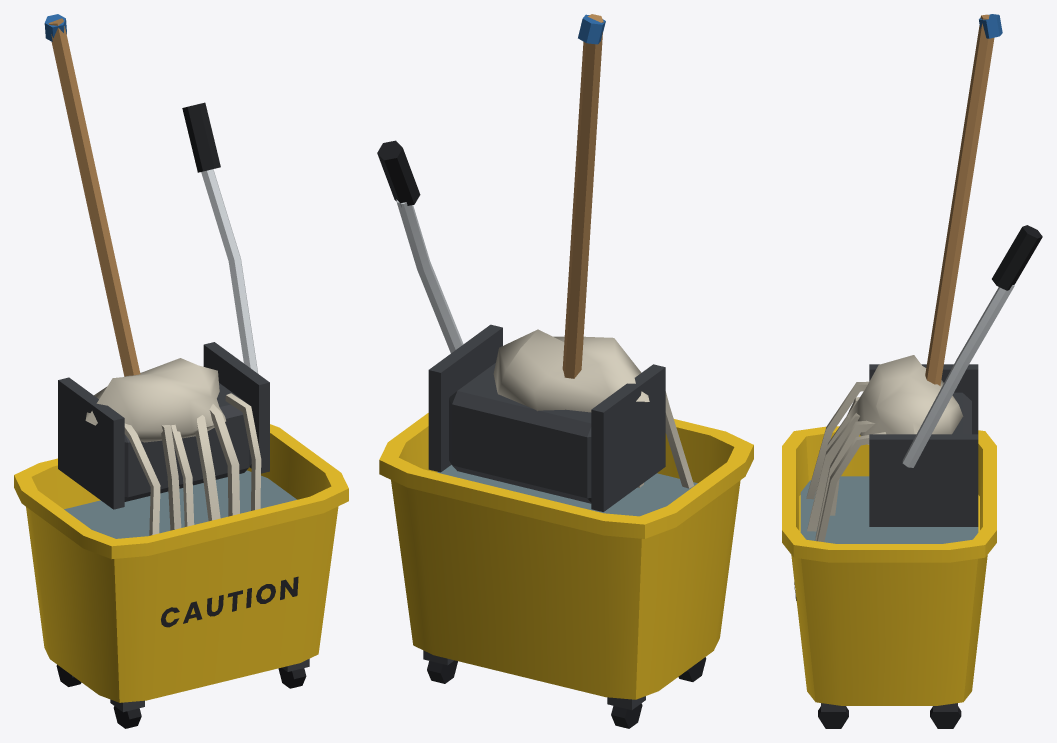
The model's file is Shop_MopBucket.fbx.
3 views of the same model, side by side, from view 1: azimuth 30°, elevation 25°; view 2: azimuth 150°, elevation 25°; view 3: azimuth 270°, elevation 25° (orthographic). The views are drawn at different scales.
Visible parts, largest first — view 1: Bucket, MopHead, Wringer, MopHandle, Water, Lever, Grip, Caution, Wheels; view 2: Bucket, Wringer, MopHead, MopHandle, Water, Lever, Grip, Wheels; view 3: Bucket, Wringer, MopHead, MopHandle, Water, Lever, Grip, Wheels, MopCap.
Part boxes in pixels (x1,y1,x2,y2): Bucket: (14, 424, 348, 702); MopHead: (85, 358, 261, 535); Wringer: (58, 342, 269, 509); MopHandle: (48, 18, 140, 376); Water: (64, 470, 296, 538); Lever: (201, 169, 258, 373); Grip: (182, 102, 220, 172); Caution: (161, 576, 298, 627); Wheels: (56, 664, 306, 728); Bucket: (379, 413, 753, 699); Wringer: (428, 324, 665, 511); MopHead: (493, 329, 693, 488); MopHandle: (562, 14, 603, 378); Water: (437, 465, 697, 516); Lever: (396, 199, 463, 353); Grip: (377, 140, 420, 206); Wheels: (427, 657, 706, 728); Bucket: (782, 426, 996, 705); Wringer: (869, 364, 978, 526); MopHead: (806, 355, 963, 541); MopHandle: (925, 14, 994, 385); Water: (800, 476, 978, 543); Lever: (902, 284, 1014, 467); Grip: (992, 225, 1042, 290); Wheels: (818, 706, 961, 728); MopCap: (979, 14, 1002, 38).
Size of the model in its own units: 188 by 450 by 167.
